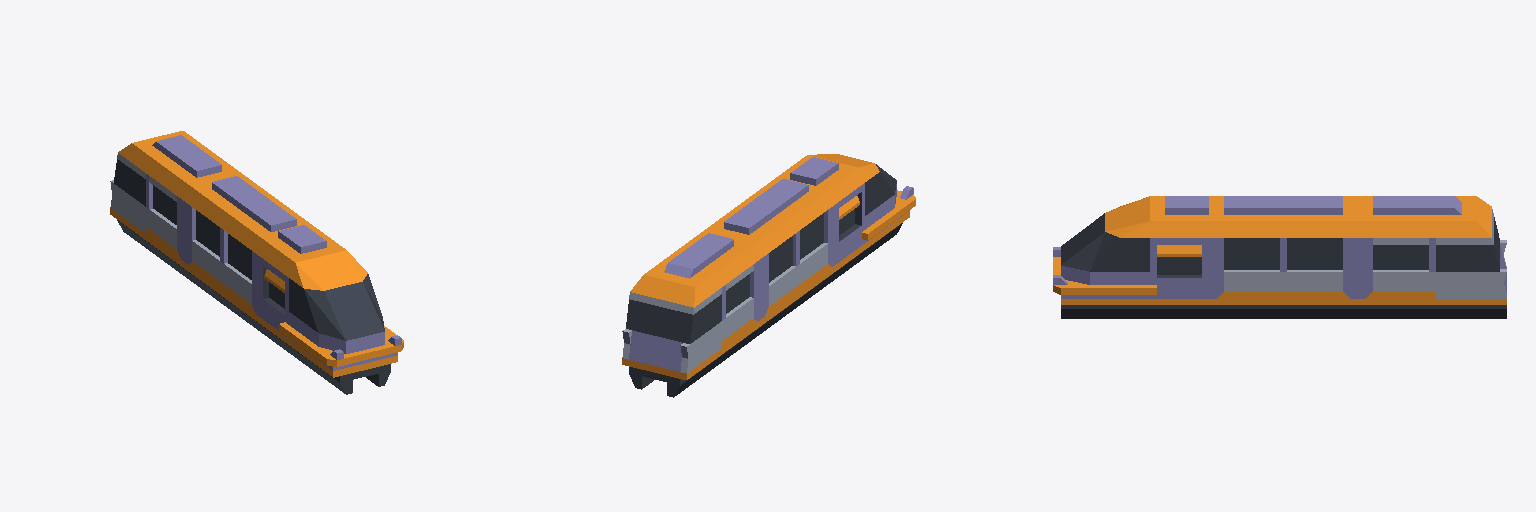
Rendered from Train.obj.
3 renders of one model, left to right at view 1: azimuth 30°, elevation 25°; view 2: azimuth 150°, elevation 25°; view 3: azimuth 270°, elevation 25°, orthographic.
Parts seen in each view (by area): view 1: mergedBlocks; view 2: mergedBlocks; view 3: mergedBlocks.
Part boxes in pixels (x1,y1,x2,y2): mergedBlocks: (110,131,403,394); mergedBlocks: (622,154,915,397); mergedBlocks: (1053,196,1506,318).
Bounding box in the file's own units: 0.6 × 0.8 × 3.05.